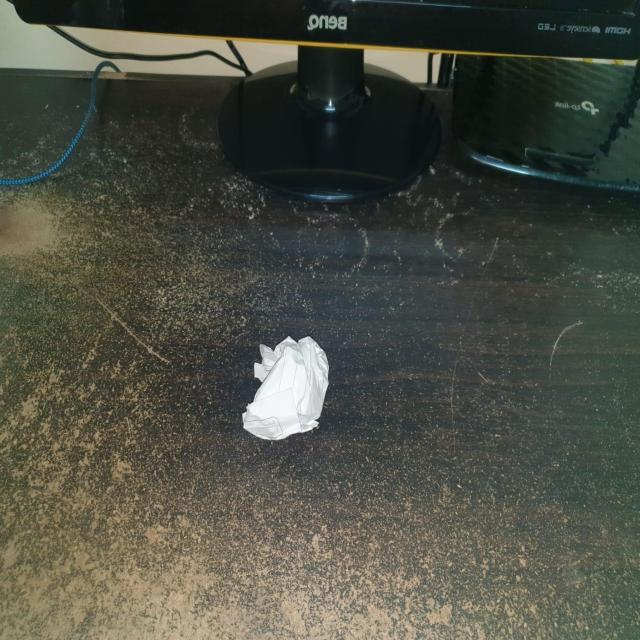kertas: (235, 336, 332, 444)
